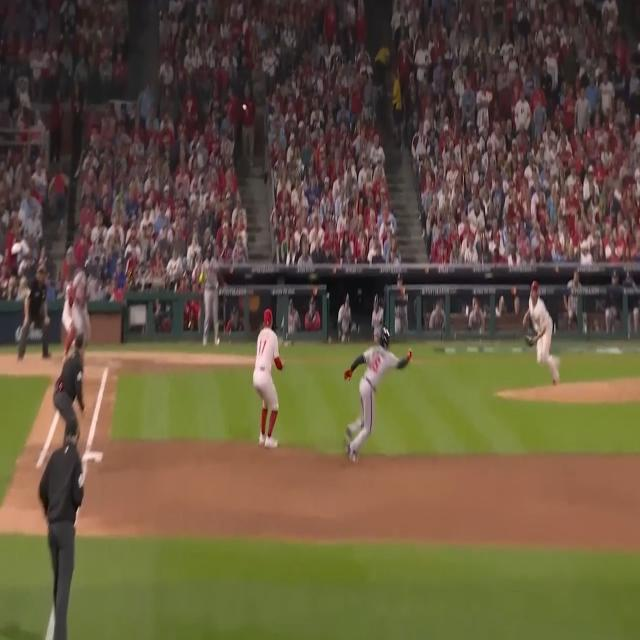baseball: (241, 102, 248, 112)
